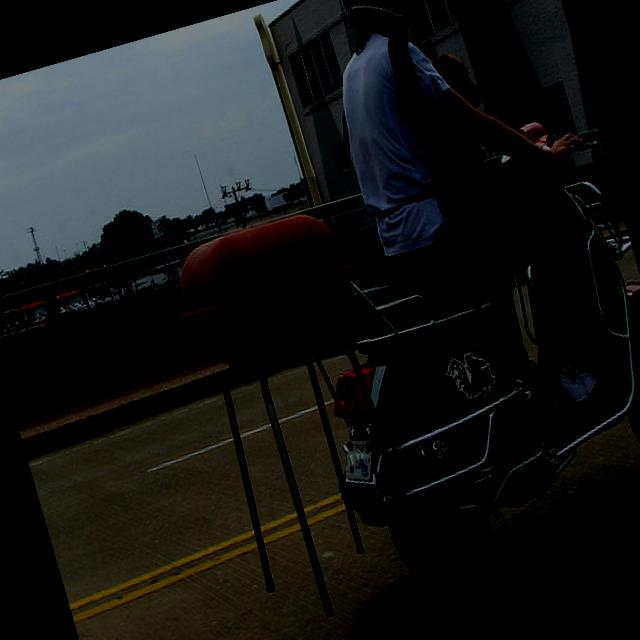Vehicle: (253, 102, 640, 613)
